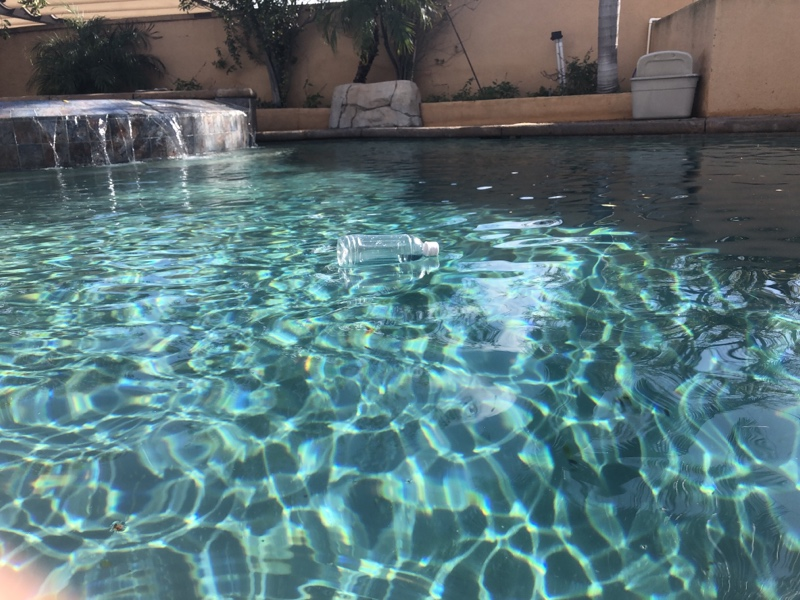Plastic Bottle: (333, 228, 442, 273)
